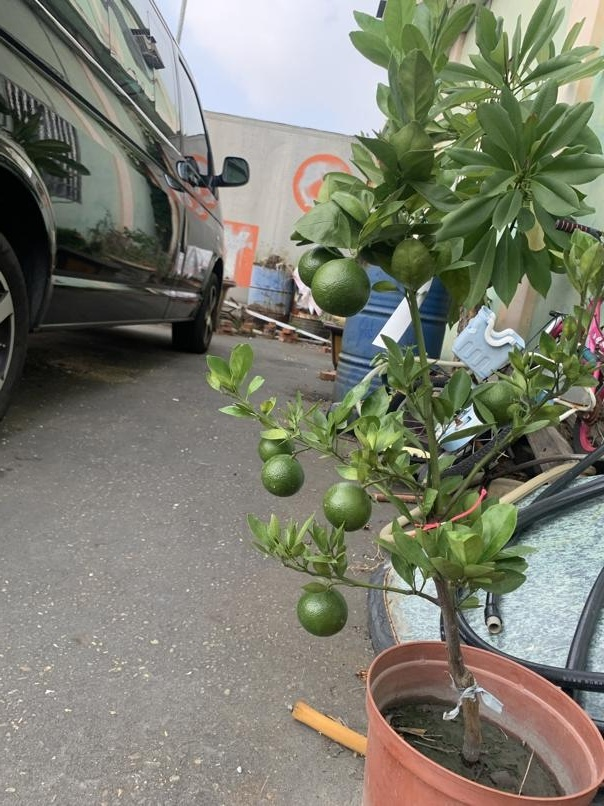Tangerine: (312, 254, 372, 318), (295, 579, 350, 637), (323, 480, 374, 530), (261, 453, 305, 498)
